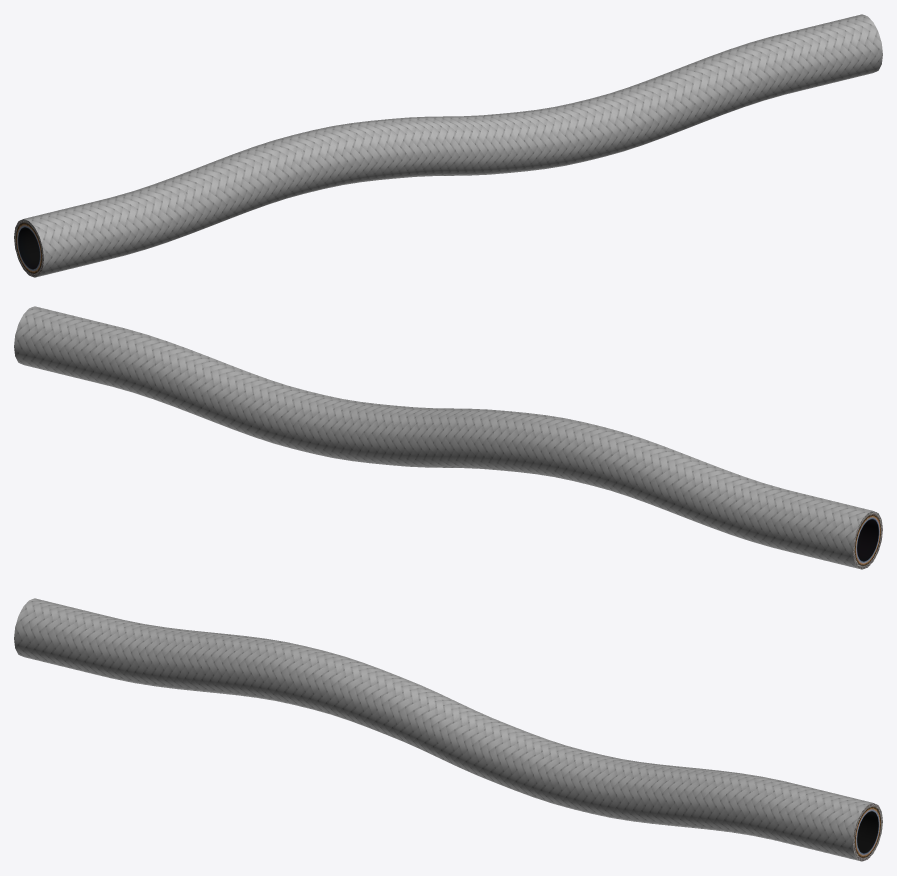
3 views of the same model, one above another, from view 1: azimuth 30°, elevation 25°; view 2: azimuth 150°, elevation 25°; view 3: azimuth 330°, elevation 25° (orthographic).
Parts seen in each view (by area): view 1: Stainless_Steel_Braid-10.001; view 2: Stainless_Steel_Braid-10.001; view 3: Stainless_Steel_Braid-10.001.
Part boxes in pixels (left/top/right/bottom): Stainless_Steel_Braid-10.001: left=14, top=14, right=882, bottom=277; Stainless_Steel_Braid-10.001: left=14, top=306, right=882, bottom=569; Stainless_Steel_Braid-10.001: left=14, top=598, right=882, bottom=861.
Bounding box in the file's own units: 0.3074 × 0.0318 × 0.0191.
2 materials, 2 textured.
